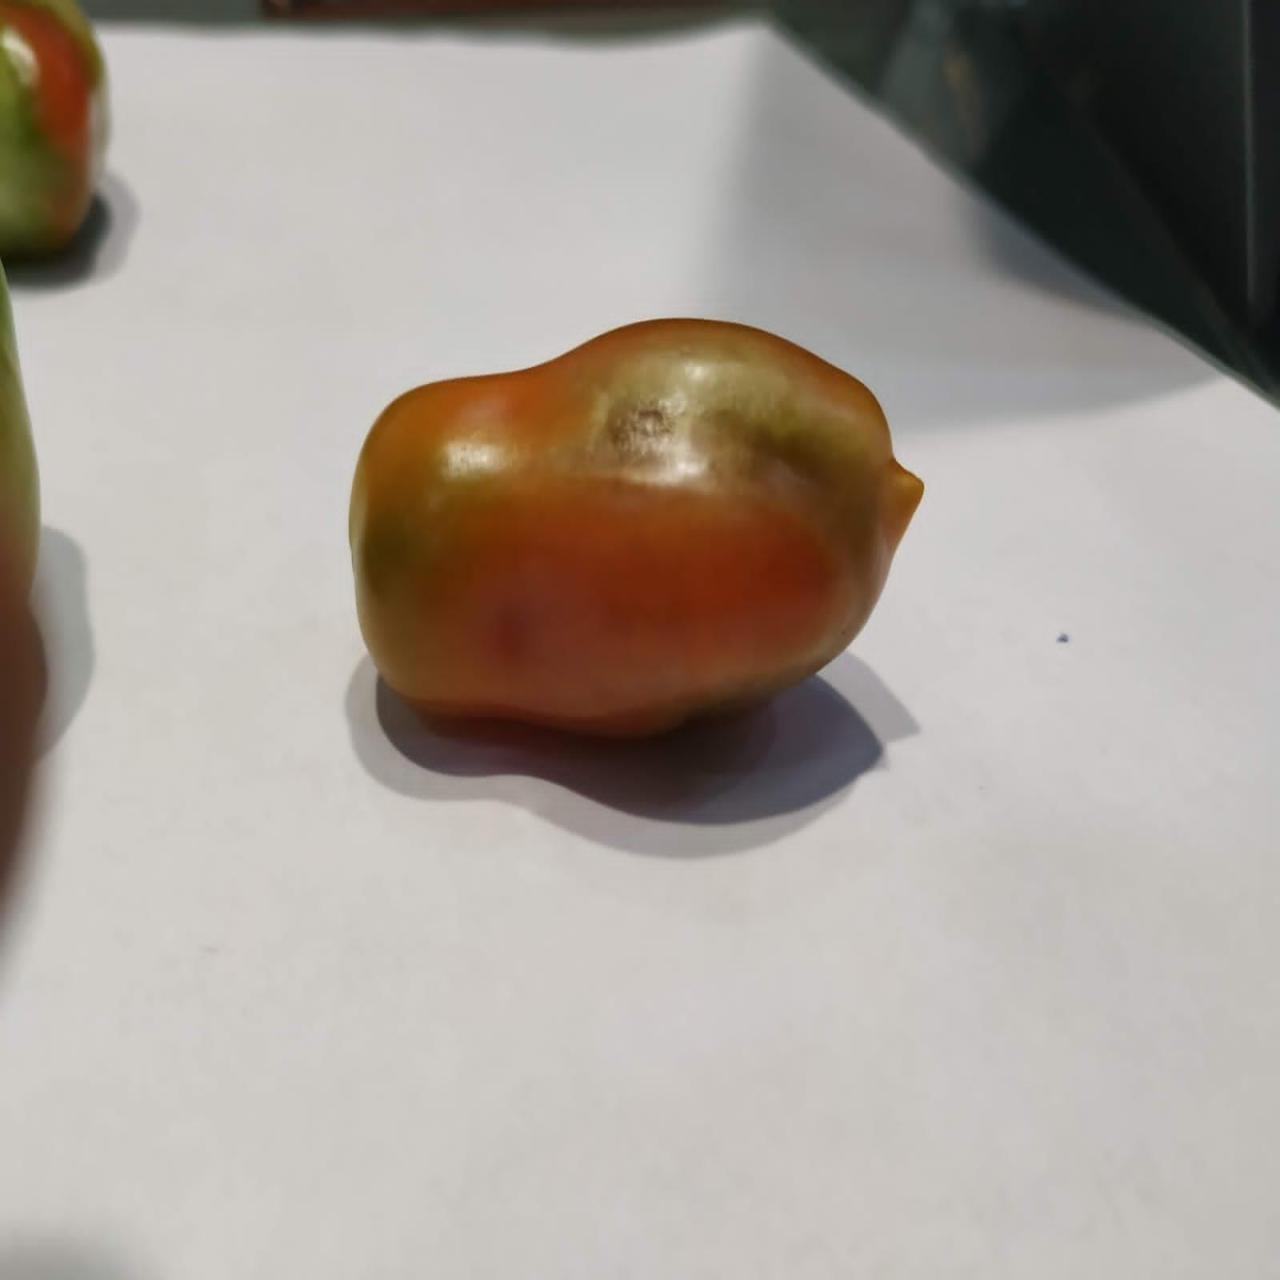T_F_R: (349, 318, 925, 735)
